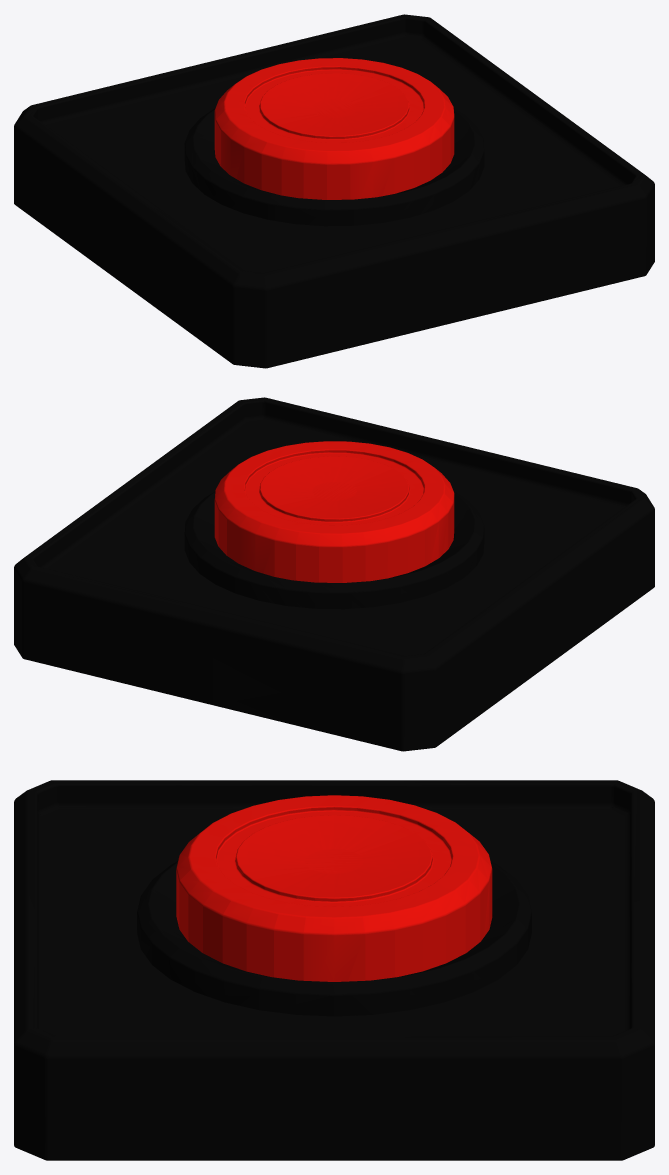
File: button.fbx
3 renders of one model, top to bottom at view 1: azimuth 30°, elevation 25°; view 2: azimuth 150°, elevation 25°; view 3: azimuth 270°, elevation 25°, orthographic. The views are drawn at different scales.
Visible parts, largest first — view 1: Cube__0, Circle.001__0, Circle__0; view 2: Cube__0, Circle.001__0, Circle__0; view 3: Cube__0, Circle.001__0, Circle__0.
Part boxes in pixels (x1,y1,x2,y2): Cube__0: (14,14,654,368); Circle.001__0: (214,58,454,199); Circle__0: (184,108,484,226); Cube__0: (14,397,654,751); Circle.001__0: (214,441,454,582); Circle__0: (184,491,484,609); Cube__0: (14,780,654,1160); Circle.001__0: (176,795,492,981); Circle__0: (137,861,531,1016).
Bounding box in the file's own units: 0.5973 × 0.1747 × 0.5973.
